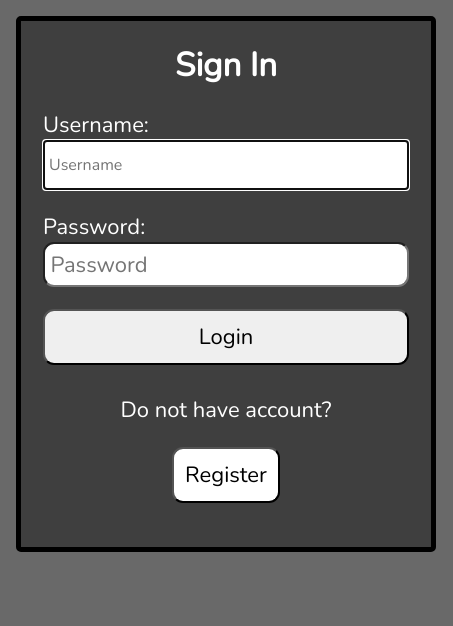
Test: Login Component › shows error message for invalid login
Type "invalidUser" into the field labelled "Username:" at point(226, 165), box [43,140,409,190]
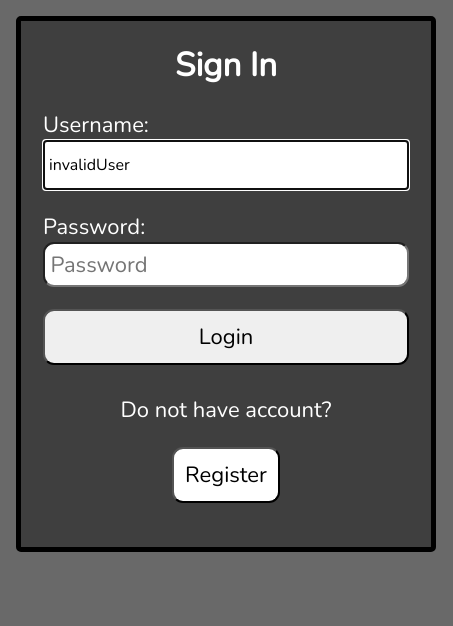
Type "invalidPassword" into the password field labelled "Password:" at point(226, 264), box [43,242,409,287]
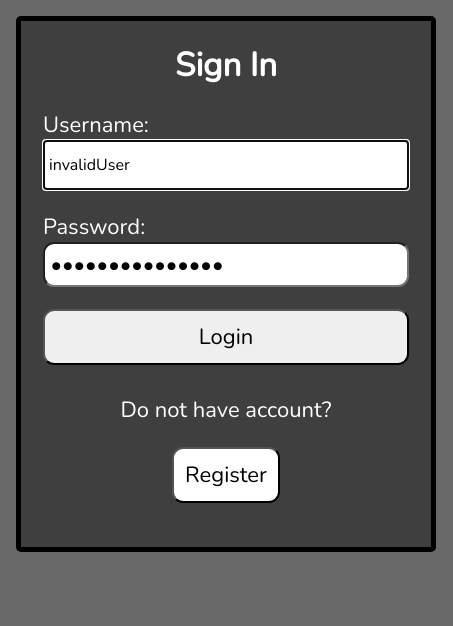
Click the button "Login" at point(226, 337), box [43,309,409,365]
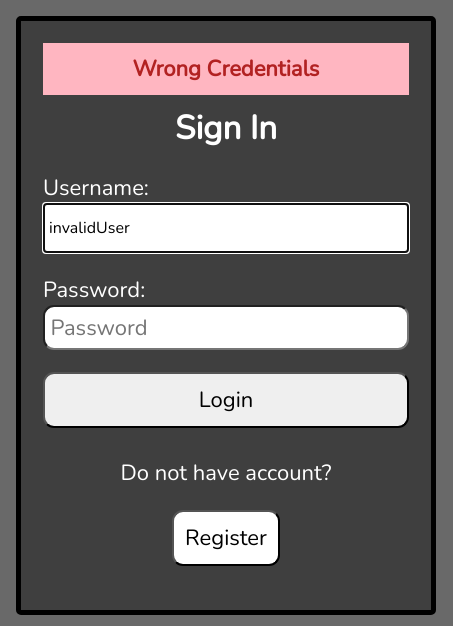
Expected: the text "Wrong Credentials" is shown, [43,43,409,95]
